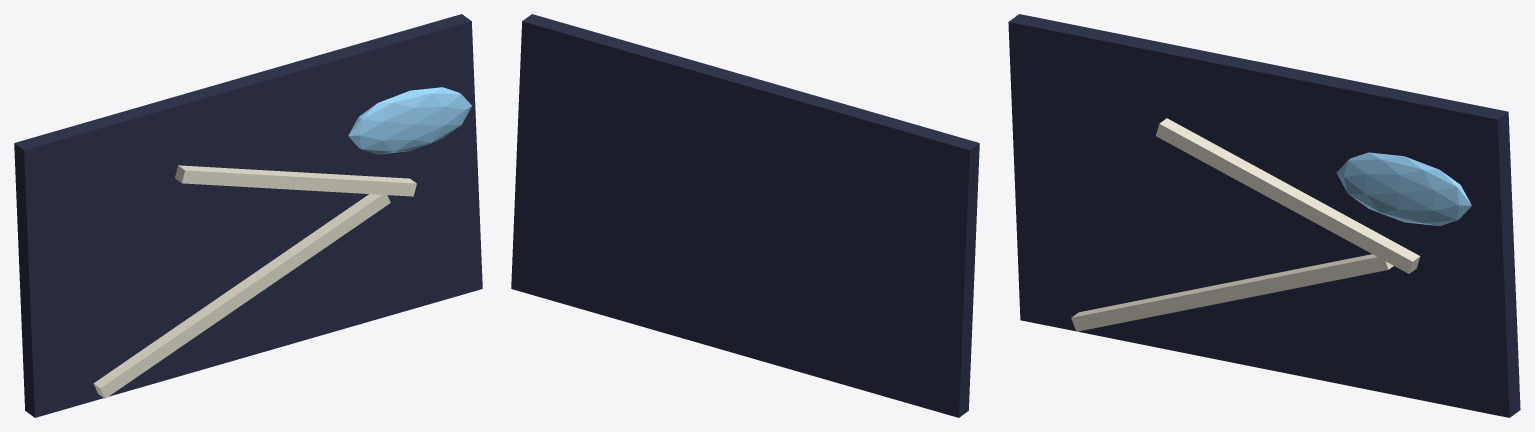
File: 02_weathering_wear_overlay_2.glb
3 renders of one model, left to right at view 1: azimuth 30°, elevation 25°; view 2: azimuth 150°, elevation 25°; view 3: azimuth 330°, elevation 25°, orthographic. The views are drawn at different scales.
Visible parts, largest first — view 1: wear_plate, scratch_a, rust_or_moss_spot, scratch_b; view 2: wear_plate; view 3: wear_plate, rust_or_moss_spot, scratch_b, scratch_a.
Part boxes in pixels (box(x1,y1,x2,y2)): wear_plate: box(14, 14, 482, 417); scratch_a: box(93, 194, 390, 398); rust_or_moss_spot: box(348, 87, 471, 154); scratch_b: box(175, 165, 416, 196); wear_plate: box(511, 14, 979, 417); wear_plate: box(1008, 14, 1520, 417); rust_or_moss_spot: box(1336, 152, 1471, 225); scratch_b: box(1156, 118, 1420, 273); scratch_a: box(1071, 254, 1393, 331).
Size of the model in its own units: 1.33 by 0.8043 by 0.134.
